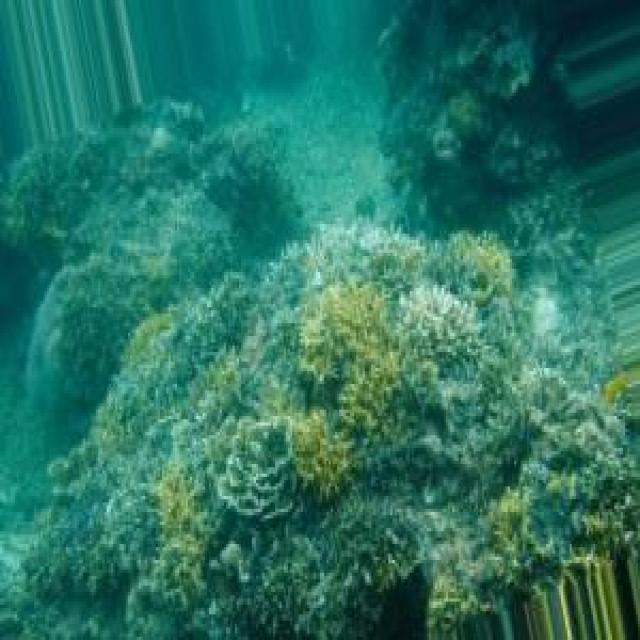healthy coral: (294, 285, 401, 464), (150, 461, 205, 637), (432, 232, 512, 307), (294, 411, 349, 502), (424, 549, 476, 638), (491, 488, 532, 595), (205, 347, 240, 395)
